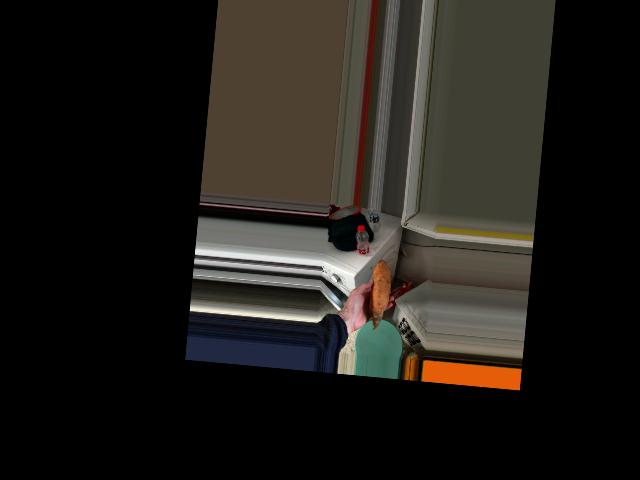sweet_potato: (363, 267, 389, 316)
